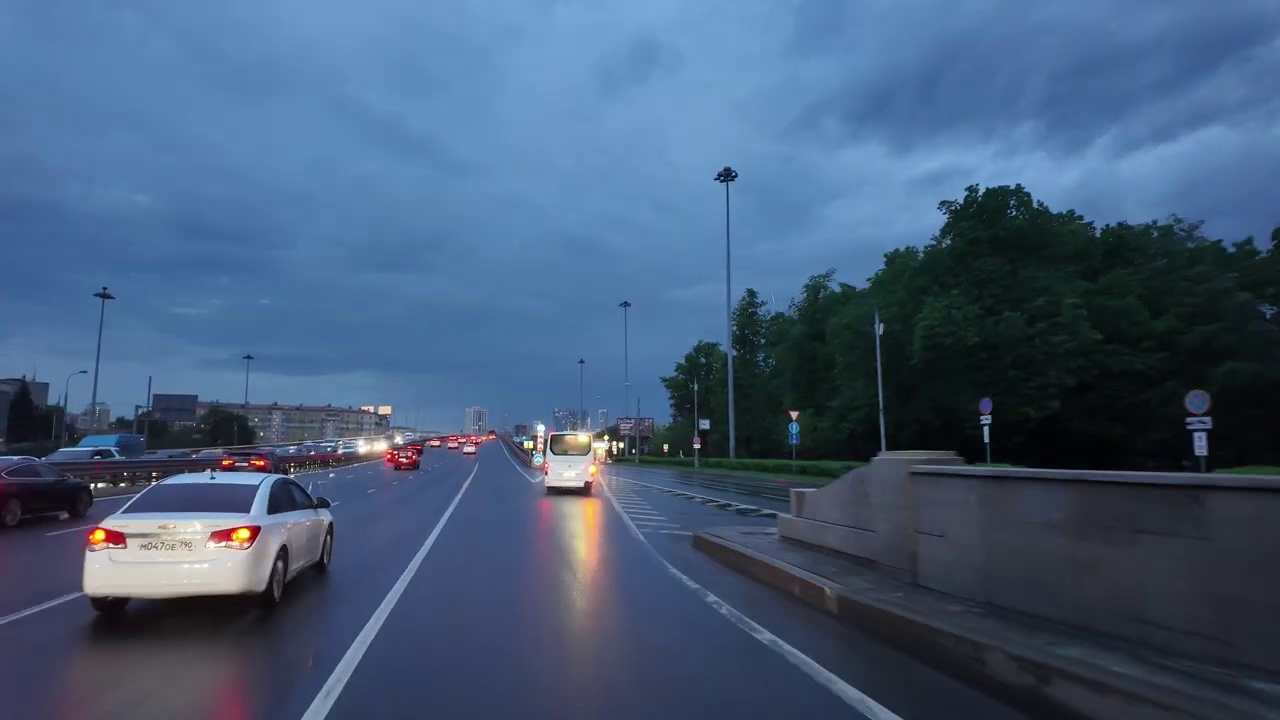apagada: (709, 163, 742, 192), (91, 283, 117, 307)
